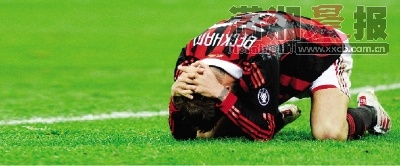falling: (155, 3, 400, 145)
